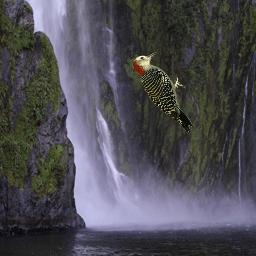Woodpecker: (131, 52, 194, 134)
